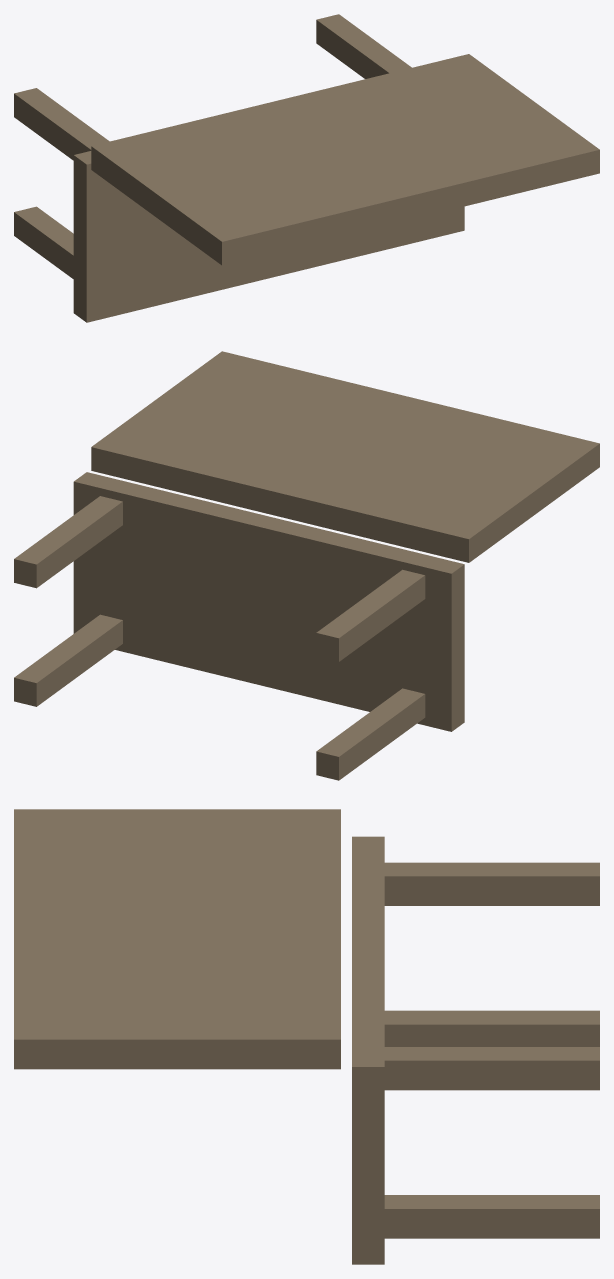
Rendered from workbench_garage.glb.
3 renders of one model, top to bottom at view 1: azimuth 30°, elevation 25°; view 2: azimuth 150°, elevation 25°; view 3: azimuth 270°, elevation 25°, orthographic. The views are drawn at different scales.
Visible parts, largest first — view 1: world; view 2: world; view 3: world.
Part boxes in pixels (bbox=[...]): world: bbox=[14, 14, 599, 322]; world: bbox=[14, 351, 599, 780]; world: bbox=[14, 809, 599, 1264].
Size of the model in its own units: 2 by 0.91 by 2.15.
